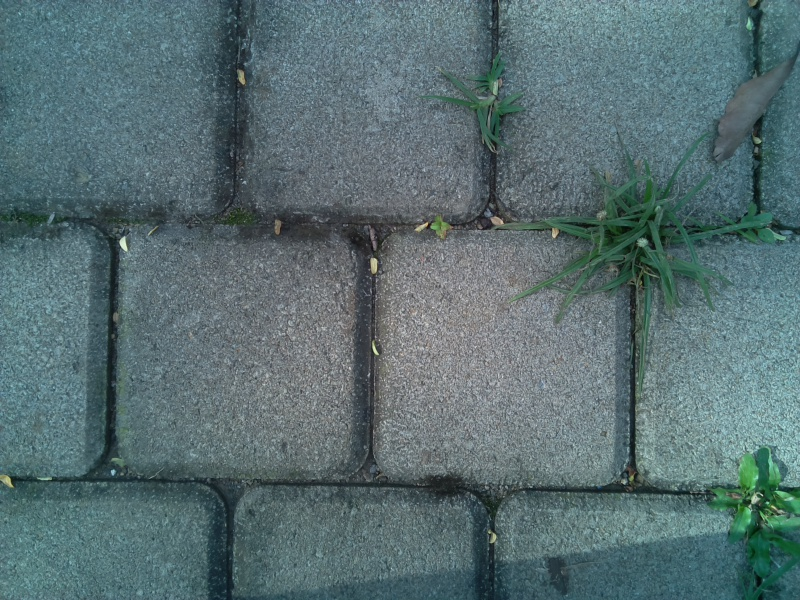Weed: (540, 161, 731, 328), (700, 449, 798, 599), (436, 58, 526, 157), (729, 192, 783, 259), (427, 212, 453, 246)
